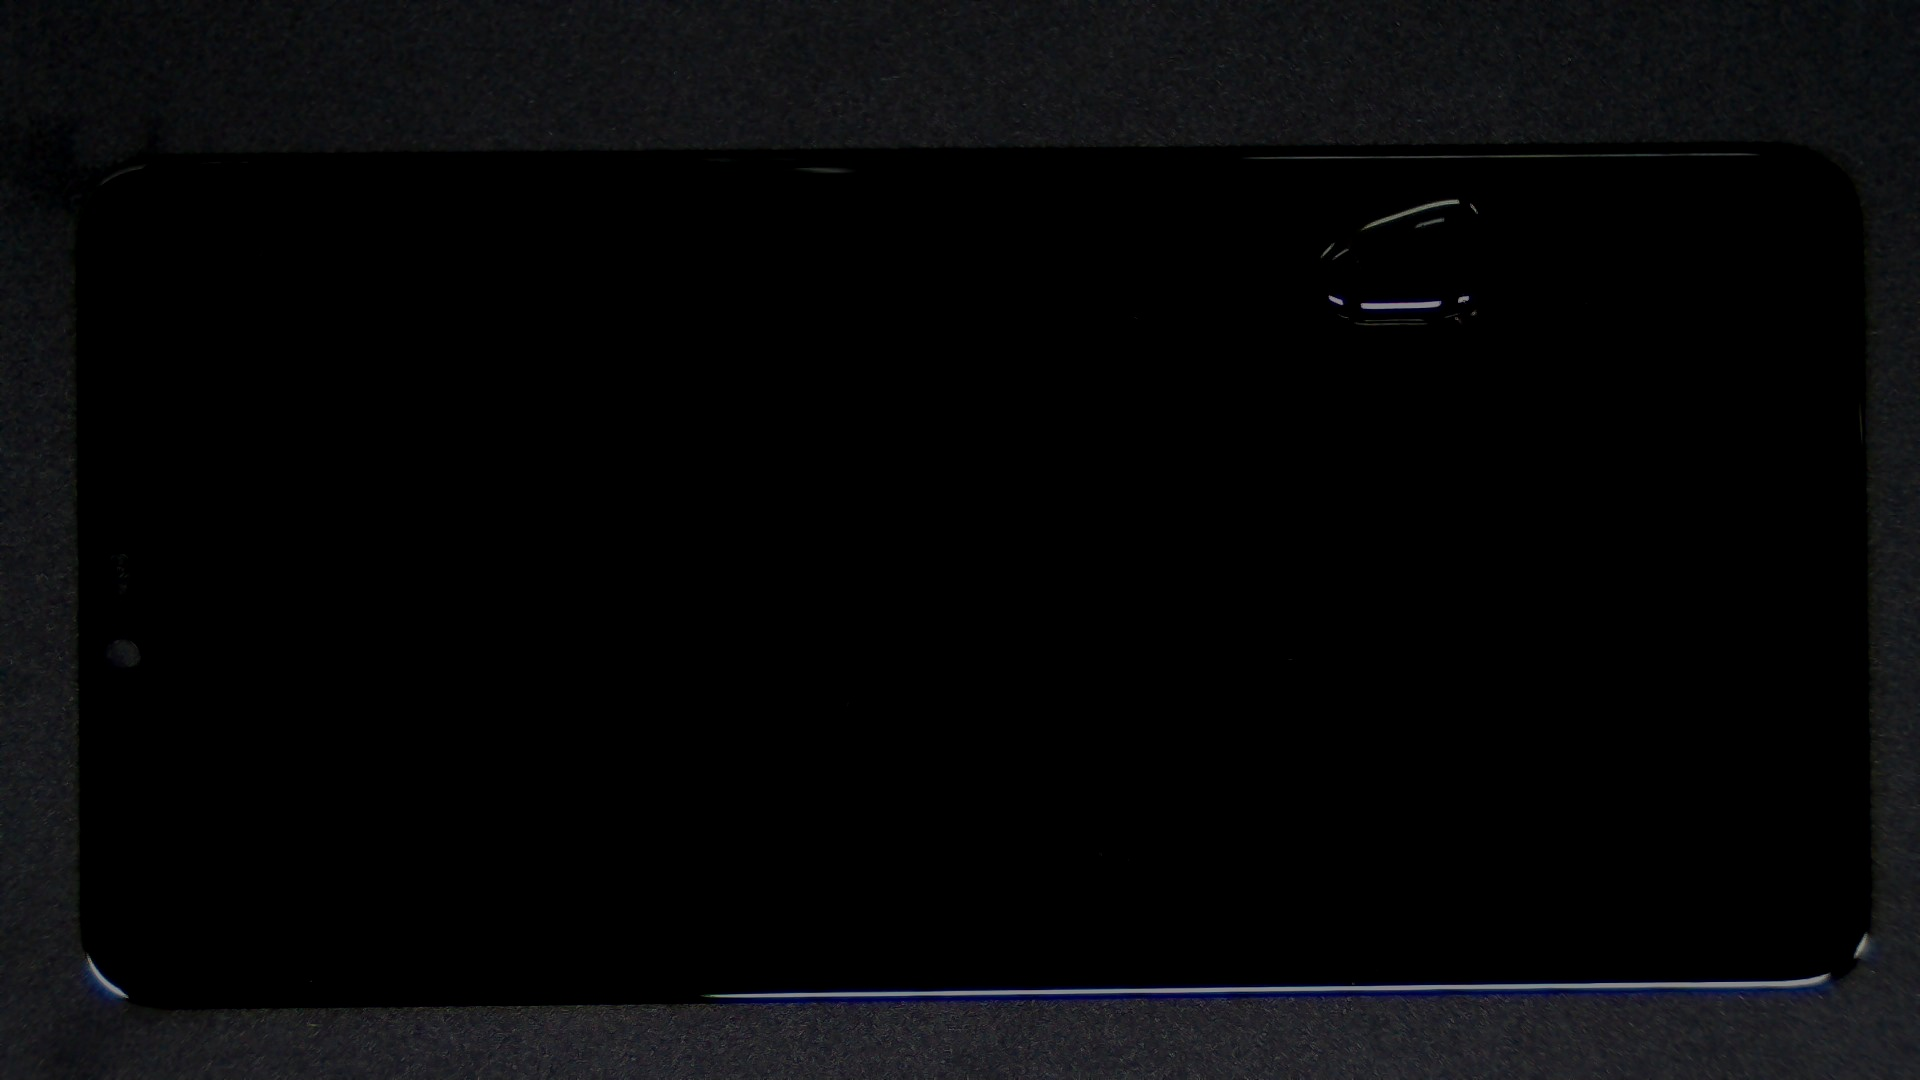oil: (728, 95, 1920, 286)
